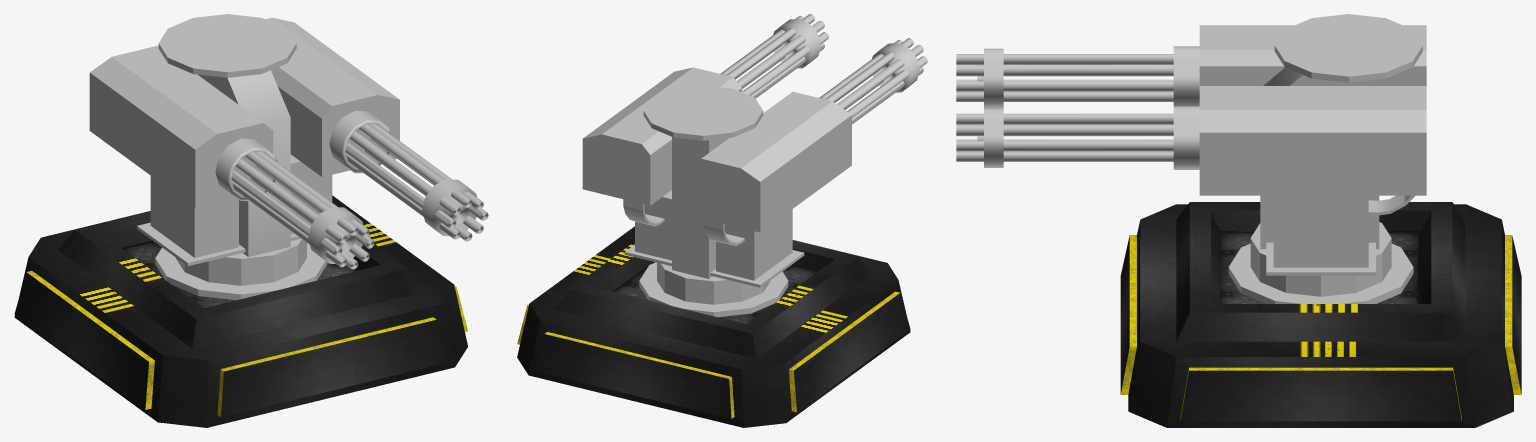
The model's file is MiniGunTowerLv3.fbx.
3 views of the same model, side by side, from view 1: azimuth 30°, elevation 25°; view 2: azimuth 150°, elevation 25°; view 3: azimuth 270°, elevation 25° (orthographic). The views are drawn at different scales.
Parts seen in each view (by area): view 1: Base, Gun_Tower, Head, Gun_1, Gun_2, Head_Sub; view 2: Base, Gun_Tower, Head, Head_Sub, Gun_1, Gun_2; view 3: Base, Gun_Tower, Head, Gun_1, Gun_2, Head_Sub.
Part boxes in pixels (x1,y1,x2,y2): Base: (14,195,467,427); Gun_Tower: (89,17,399,207); Head: (137,70,332,300); Gun_1: (329,111,488,241); Gun_2: (215,138,374,269); Head_Sub: (158,14,296,77); Base: (517,226,910,427); Gun_Tower: (582,67,851,232); Head: (623,137,804,317); Head_Sub: (643,85,763,140); Gun_1: (720,14,828,98); Gun_2: (818,38,927,124); Base: (1120,202,1521,427); Gun_Tower: (1199,25,1426,195); Head: (1228,67,1415,303); Gun_1: (956,106,1199,169); Gun_2: (956,46,1199,108); Head_Sub: (1274,14,1422,82).
Bounding box in the file's own units: 24.94 × 20.65 × 35.16.
